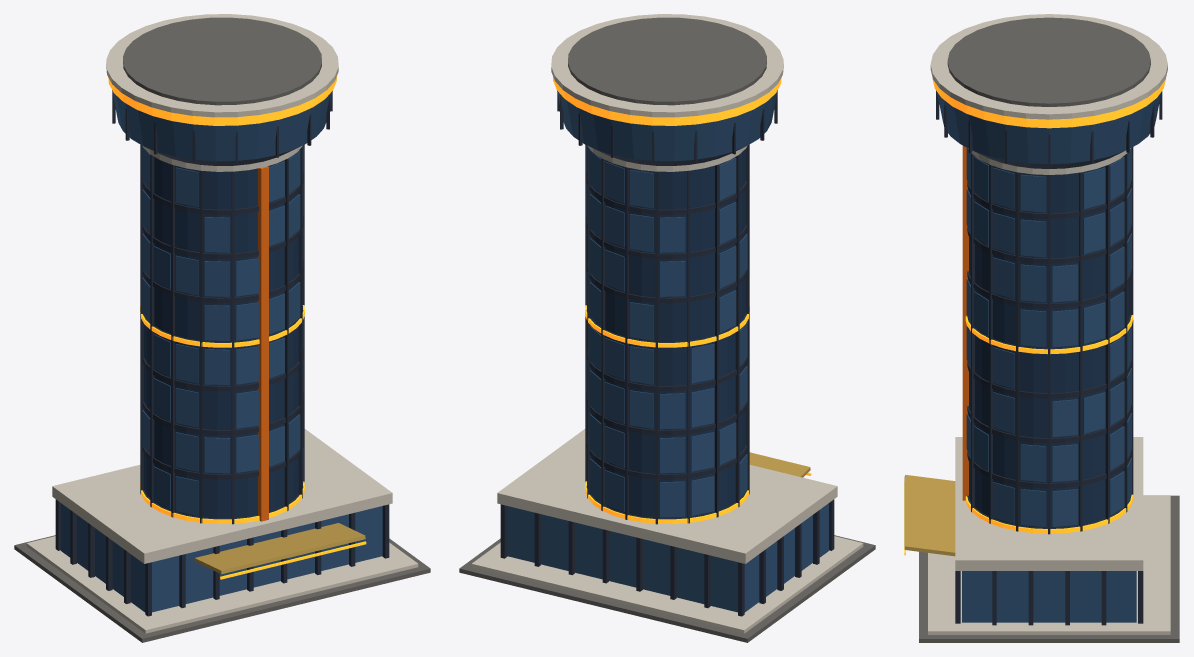
Rendered from hq-outbound.glb.
3 views of the same model, side by side, from view 1: azimuth 30°, elevation 25°; view 2: azimuth 150°, elevation 25°; view 3: azimuth 270°, elevation 25° (orthographic).
Visible parts, largest first — view 1: hq-outbound; view 2: hq-outbound; view 3: hq-outbound.
Boxes of the visible parts, x1,y1,x2,y2 form: hq-outbound: [14, 14, 430, 642]; hq-outbound: [459, 14, 875, 642]; hq-outbound: [904, 14, 1179, 642].
Bounding box in the file's own units: 26 × 43.2 × 21.12.
